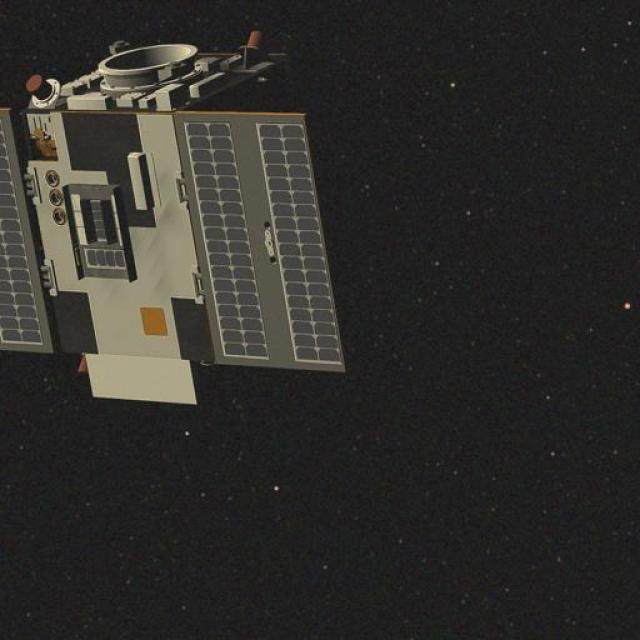proba_2: (0, 55, 366, 401)
